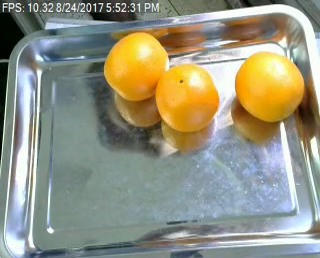Orange: (235, 51, 306, 122), (154, 63, 221, 132), (104, 30, 169, 101)
